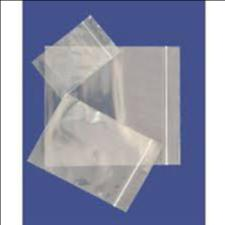Plastic: (45, 46, 180, 166)
